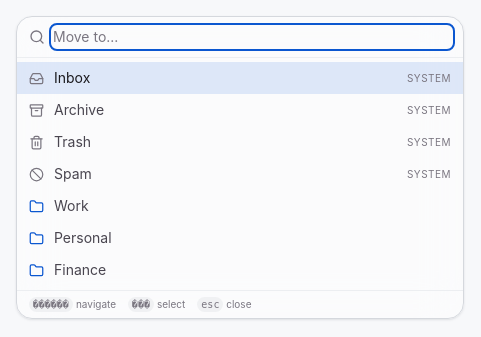
Test: MoveToFolderDialog › shows empty state when no matches
Type "nonexistent" into the field with placeholder "Move to...". click: {"x": 252, "y": 37}
box: x1=53 y1=27 x2=451 y2=47
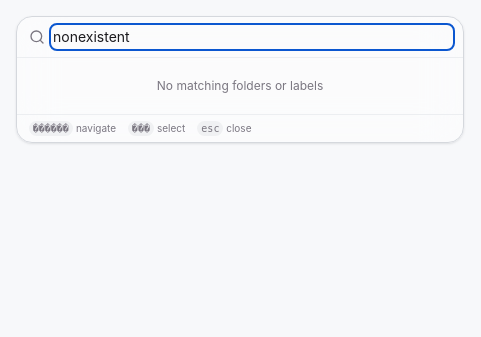
expect the text "No matching folders or labels" is shown: met, box x1=157 y1=78 x2=323 y2=93
